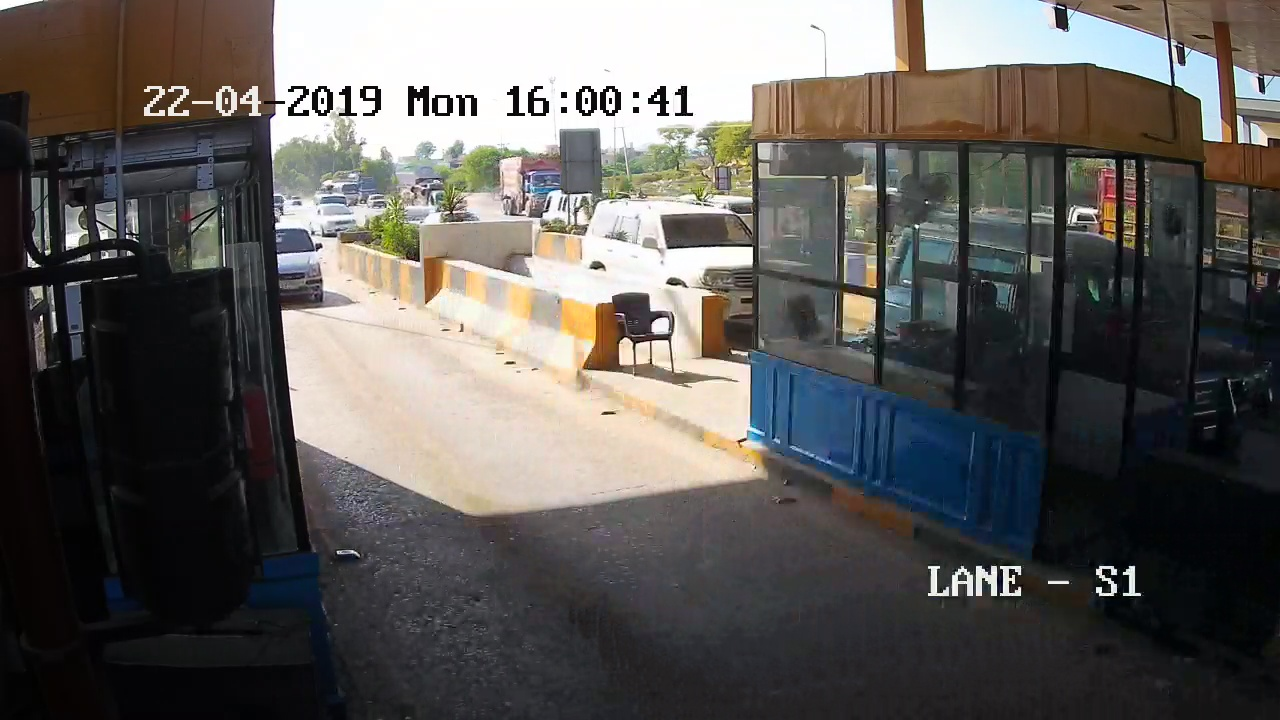car: (271, 222, 332, 317)
